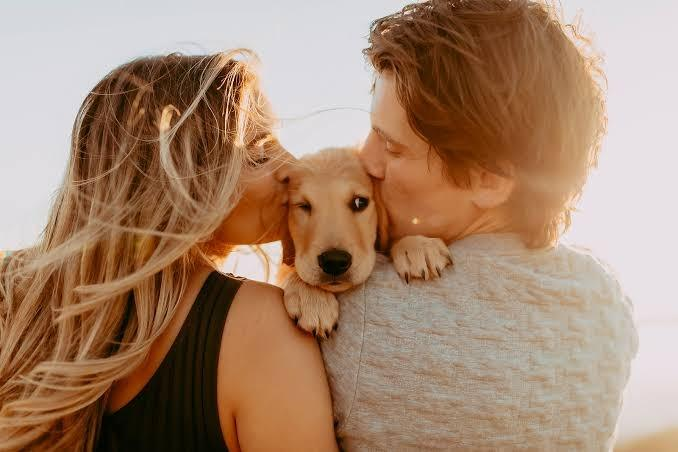non-dog: (325, 1, 638, 446), (0, 52, 342, 447)
puppy-dog: (279, 149, 452, 345)
